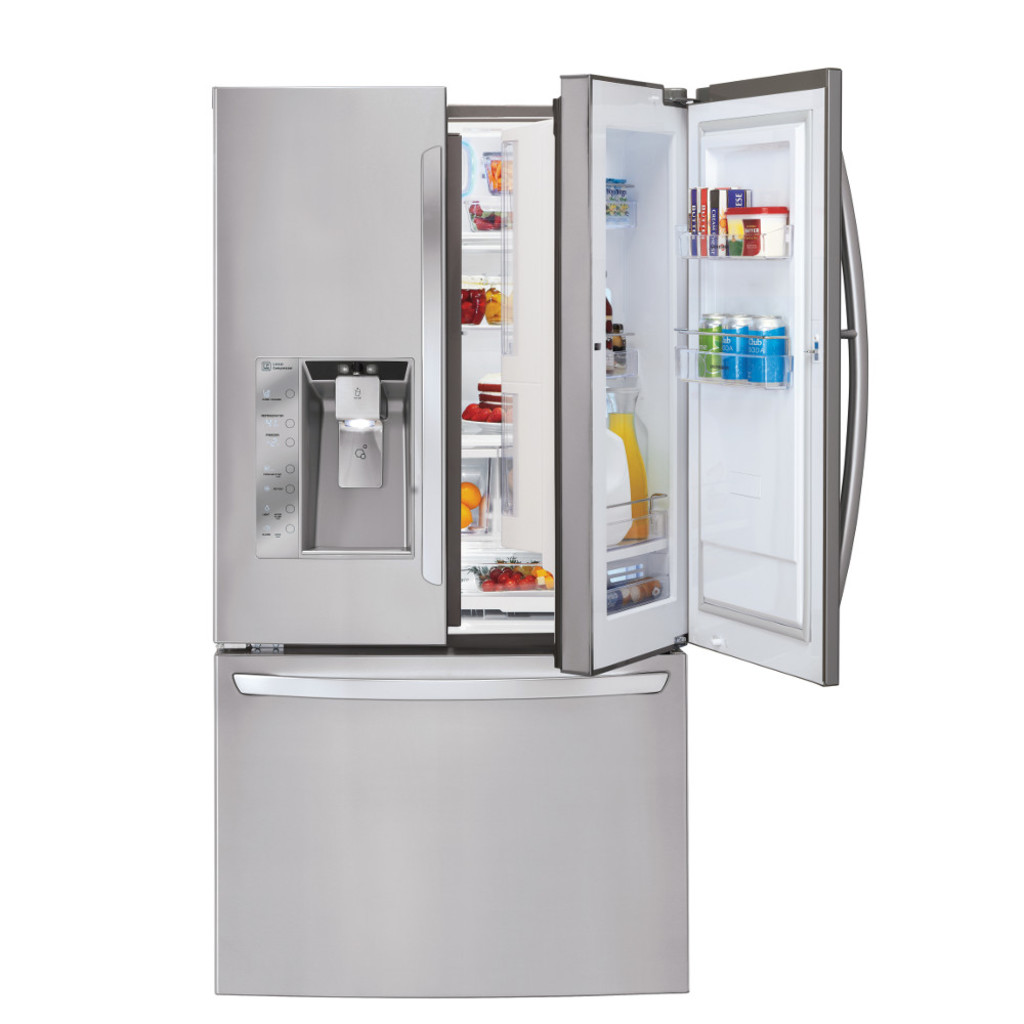handle: (226, 666, 670, 708), (834, 164, 870, 617), (415, 144, 447, 592)
refrigerator door: (217, 657, 684, 987), (214, 91, 445, 656), (694, 100, 836, 681), (567, 87, 684, 653)
